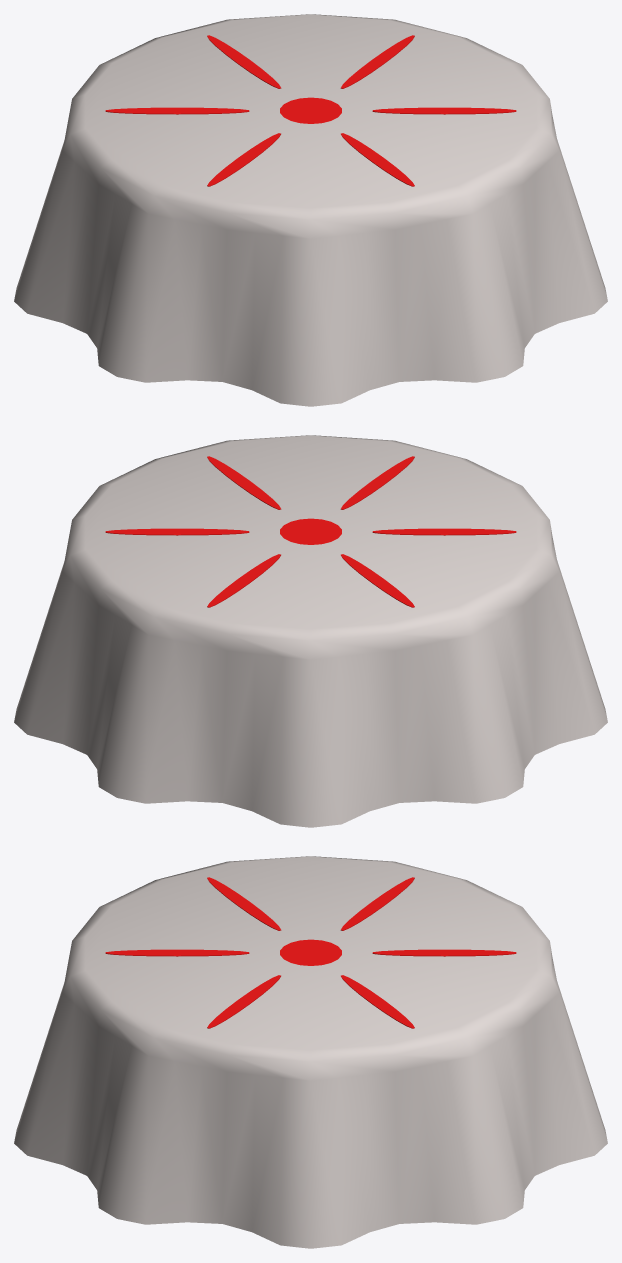
File: ban 1_07.FBX
3 renders of one model, top to bottom at view 1: azimuth 30°, elevation 25°; view 2: azimuth 150°, elevation 25°; view 3: azimuth 270°, elevation 25°, orthographic.
Visible parts, largest first — view 1: Cylinder123; view 2: Cylinder123; view 3: Cylinder123.
Part boxes in pixels (x1,y1,x2,y2): Cylinder123: [14, 14, 607, 406]; Cylinder123: [14, 435, 607, 827]; Cylinder123: [14, 856, 607, 1248].
Size of the model in its own units: 3.64 by 1.15 by 3.67.
